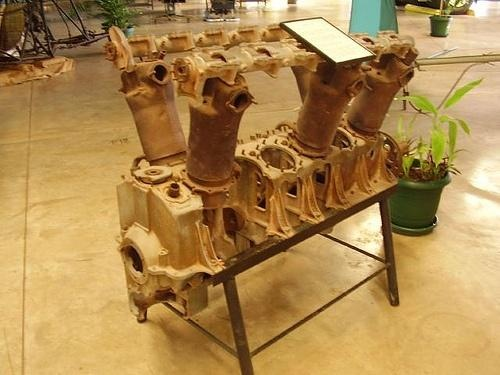pottedplant: (388, 80, 485, 237), (103, 1, 137, 43), (429, 1, 450, 38)
